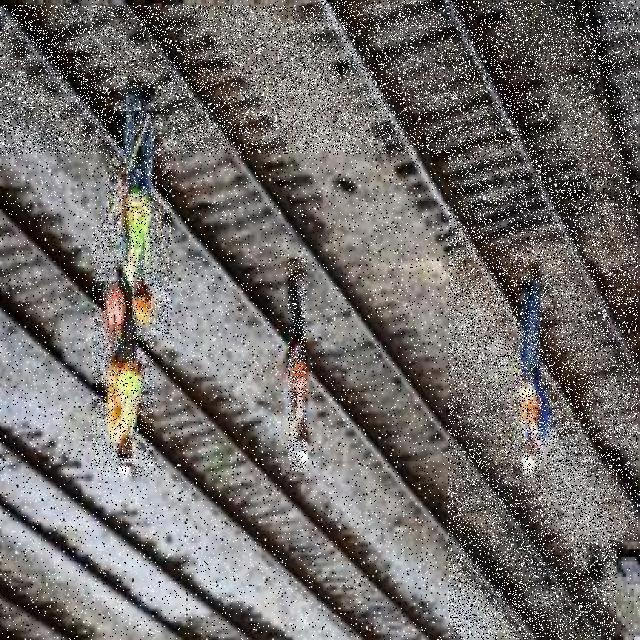danger: (106, 92, 172, 337), (92, 225, 154, 477), (514, 264, 555, 483), (288, 258, 307, 471)
rail: (0, 6, 616, 639), (0, 154, 448, 639), (314, 1, 638, 540)
